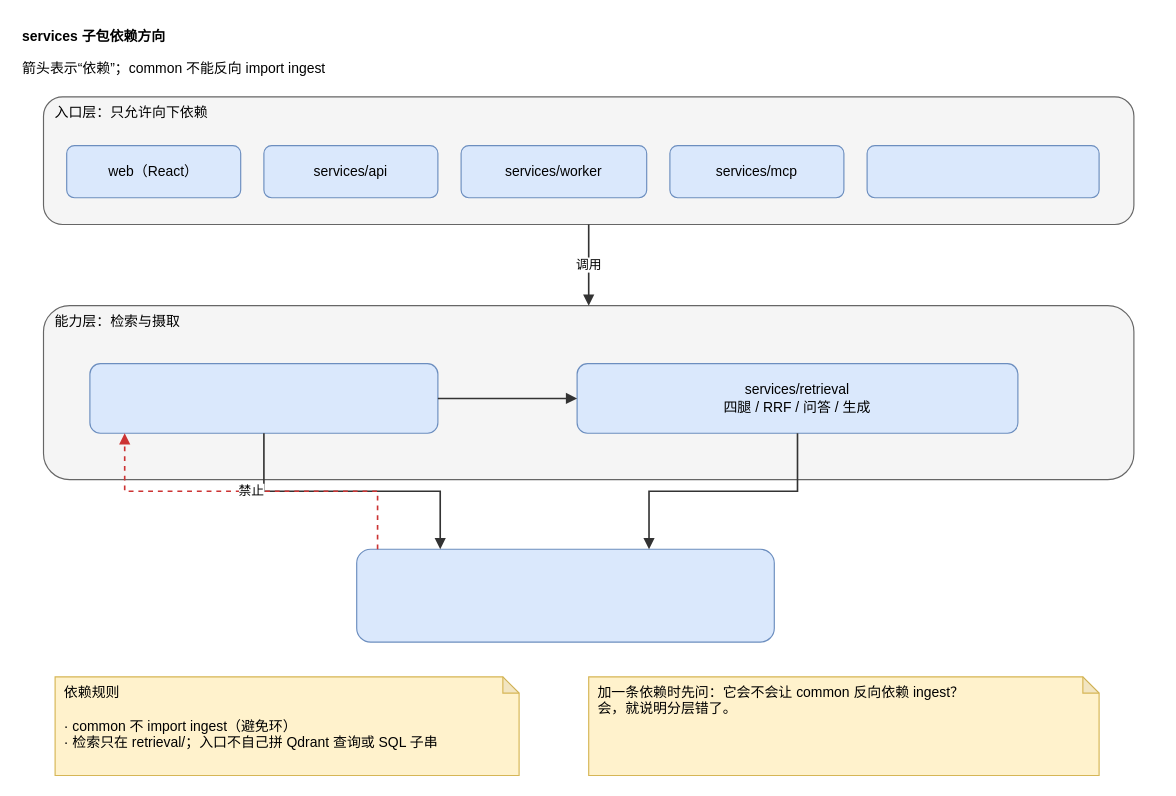
Some shapes in this 1176 by 796 pixel diagram are drawn without their labels. Each missing label, with the centre of its shape:
services/common 模型 · auth · jobs · storage · qdrant: [565,595]
services/ingest 解析 / 切分 / 校验 / 清理: [263,397]
visual_service: [982,171]
